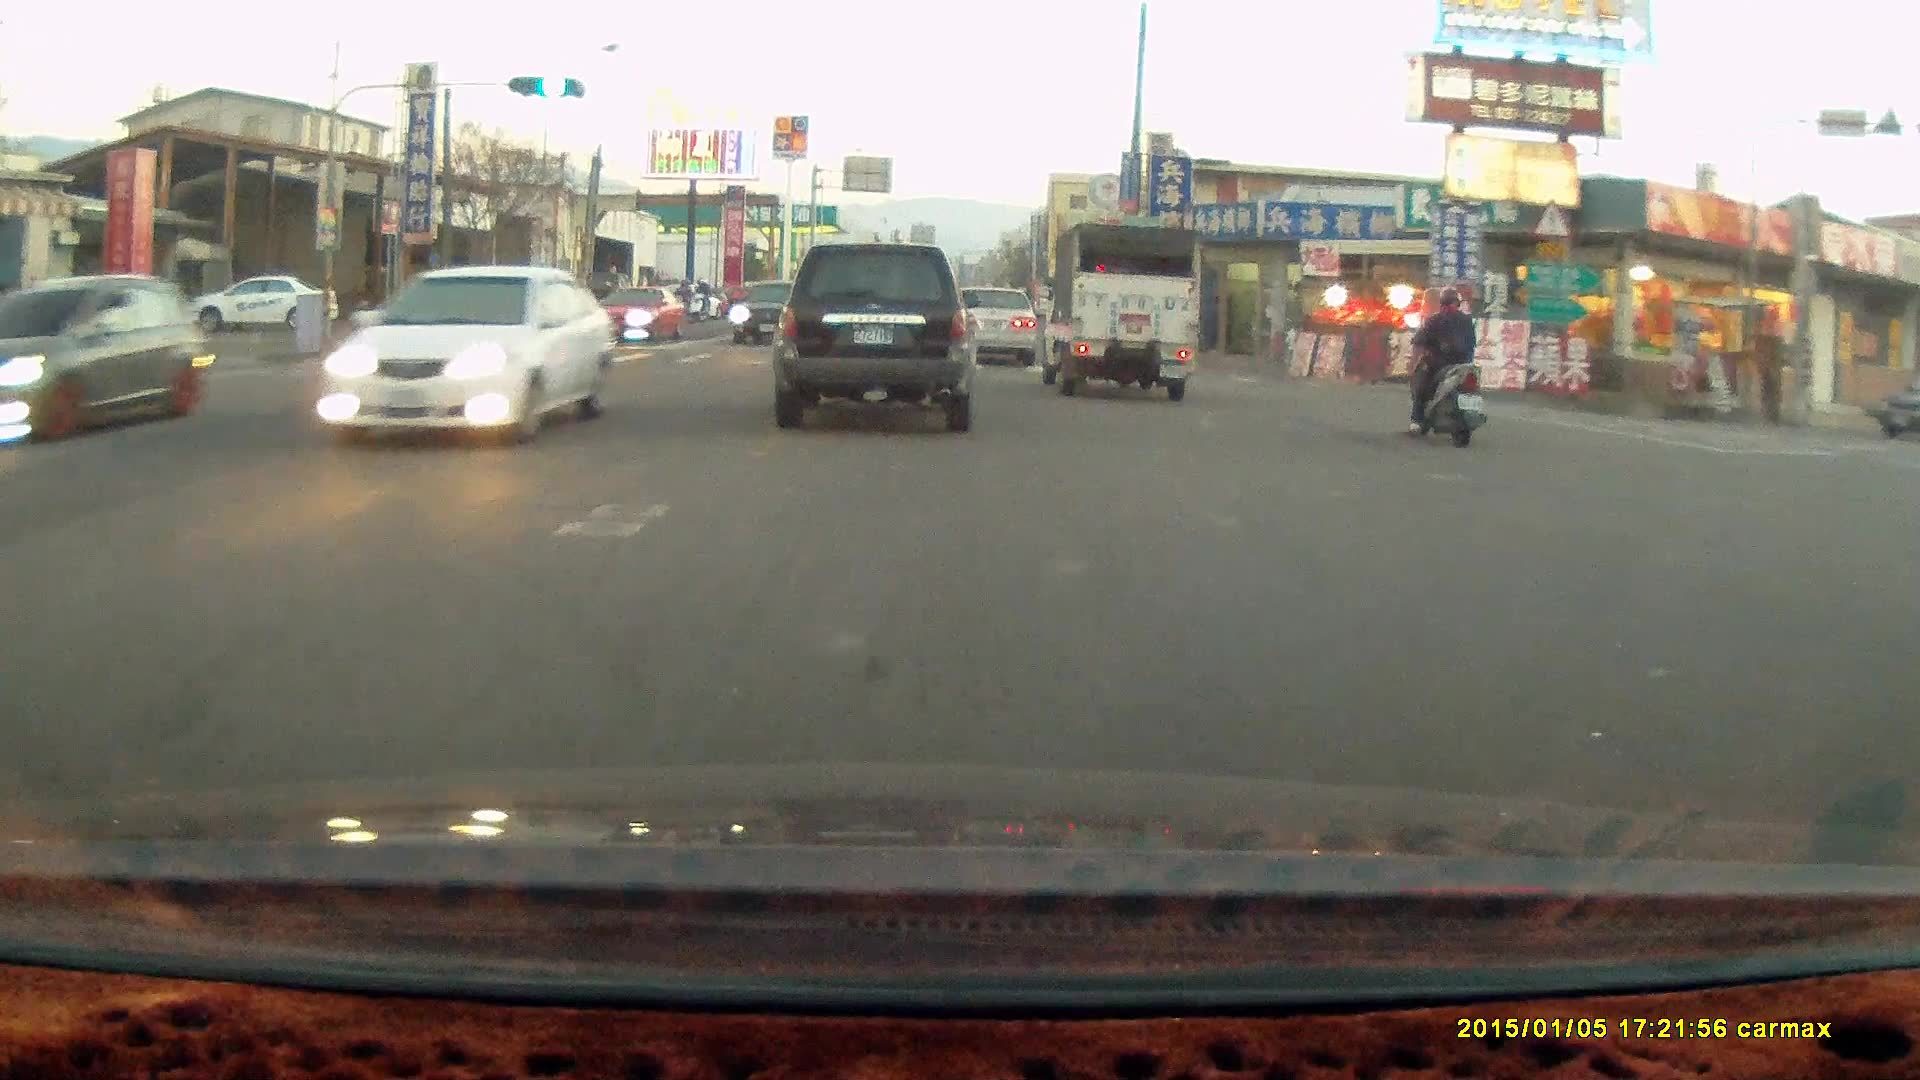rider: (1401, 285, 1488, 445), (684, 280, 712, 327)
vehicle: (326, 268, 617, 439), (769, 242, 978, 432), (1, 275, 216, 450), (1035, 220, 1203, 399), (408, 285, 571, 386), (941, 283, 1036, 366), (191, 279, 333, 331), (950, 287, 1038, 368), (729, 280, 827, 349), (593, 285, 687, 346)
